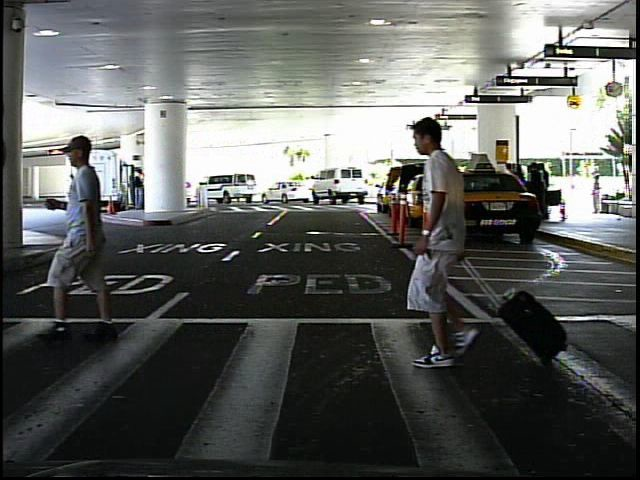person: (394, 111, 514, 378), (36, 131, 137, 344), (63, 169, 82, 219), (588, 172, 607, 218)
